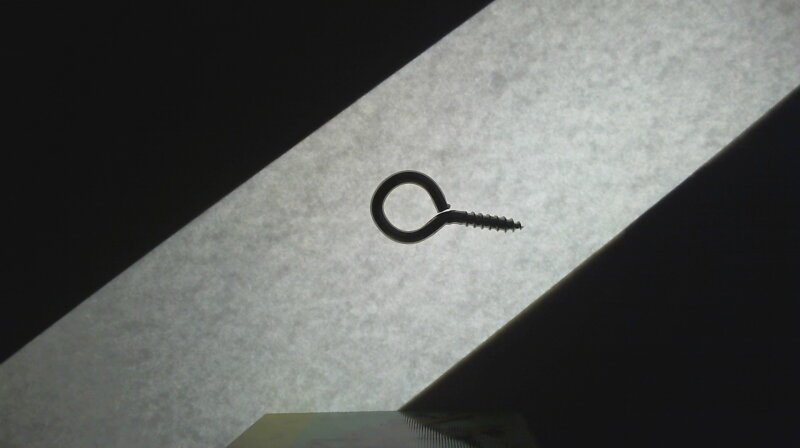O001: (367, 165, 527, 244)
